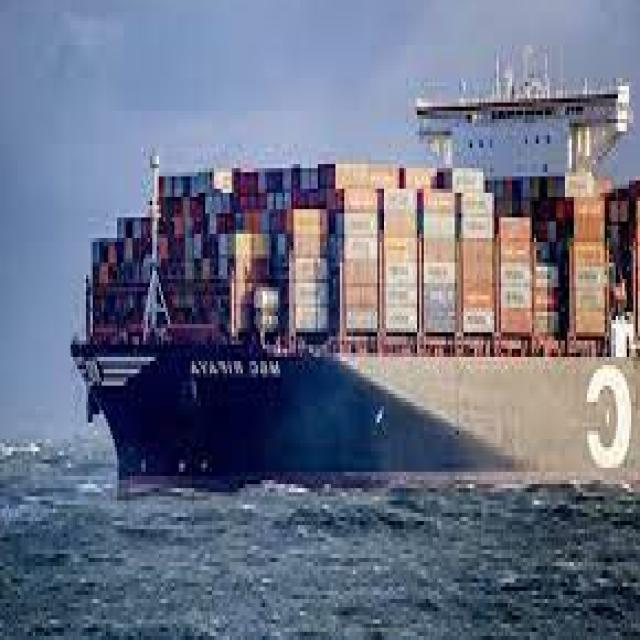cargoship: (77, 33, 640, 500)
